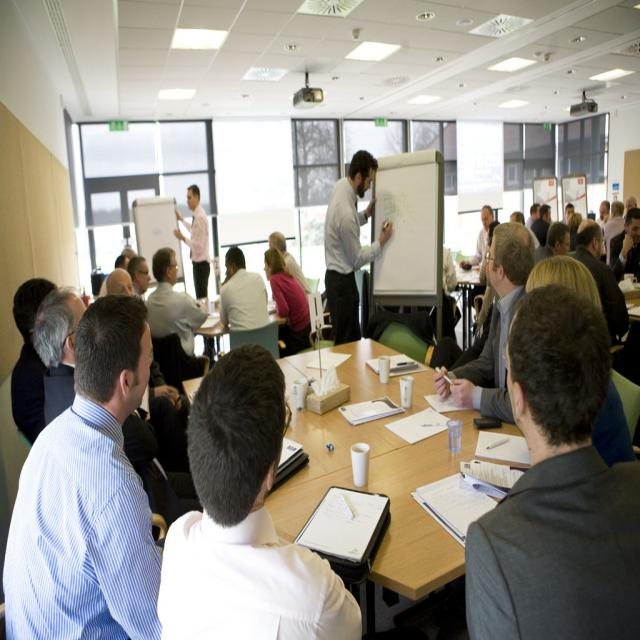chair: (366, 313, 436, 366), (609, 368, 640, 443), (226, 319, 280, 358)
desk: (265, 412, 544, 640)
person: (156, 341, 365, 634), (464, 284, 638, 632), (2, 292, 163, 638), (432, 222, 536, 424), (322, 149, 392, 344), (27, 286, 86, 438), (145, 245, 211, 376), (11, 279, 61, 446), (572, 220, 630, 352), (263, 246, 313, 356), (218, 245, 270, 331), (173, 184, 211, 300)
